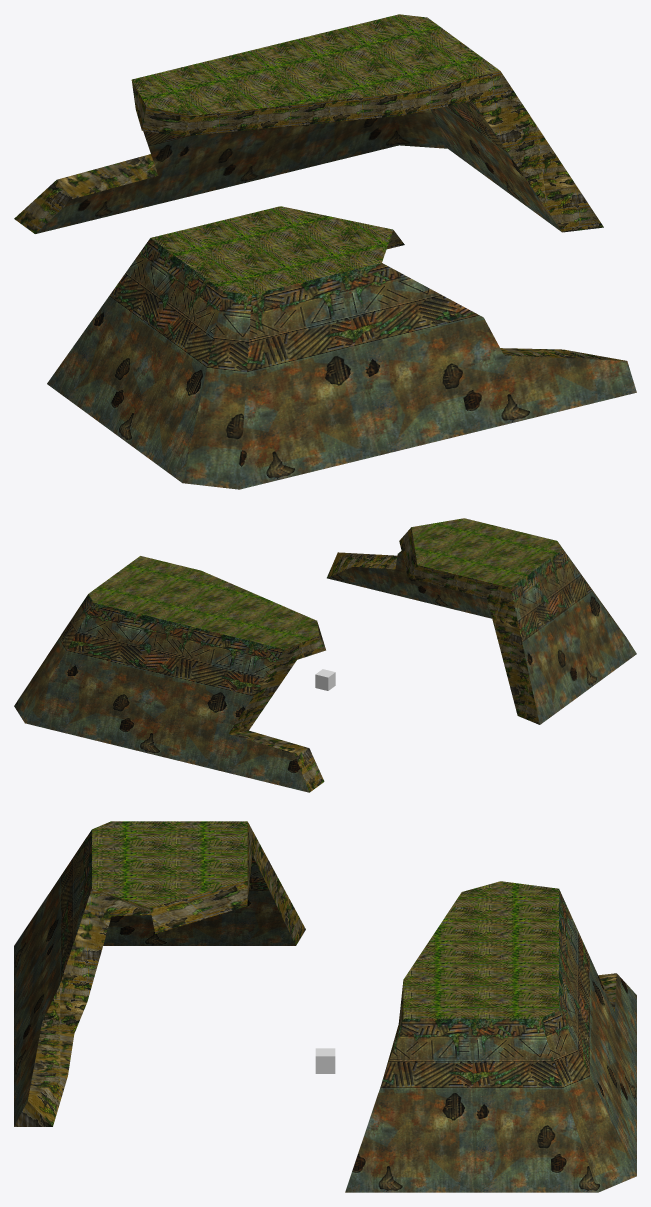
File: mbruin06.FBX
3 renders of one model, top to bottom at view 1: azimuth 30°, elevation 25°; view 2: azimuth 150°, elevation 25°; view 3: azimuth 270°, elevation 25°, orthographic. The views are drawn at different scales.
Parts seen in each view (by area): view 1: mbruin06, interior; view 2: mbruin06, interior; view 3: mbruin06, interior, hp_dummyroot.
Boxes of the visible parts, left/top/right/bottom form: mbruin06: left=47, top=14, right=636, bottom=489; interior: left=14, top=71, right=626, bottom=360; mbruin06: left=14, top=518, right=636, bottom=792; interior: left=228, top=527, right=539, bottom=792; mbruin06: left=14, top=821, right=636, bottom=1192; interior: left=14, top=822, right=616, bottom=1126; hp_dummyroot: left=315, top=1048, right=335, bottom=1073.
Size of what is drawn, in the model's own units: 32 by 32 by 8.5.
